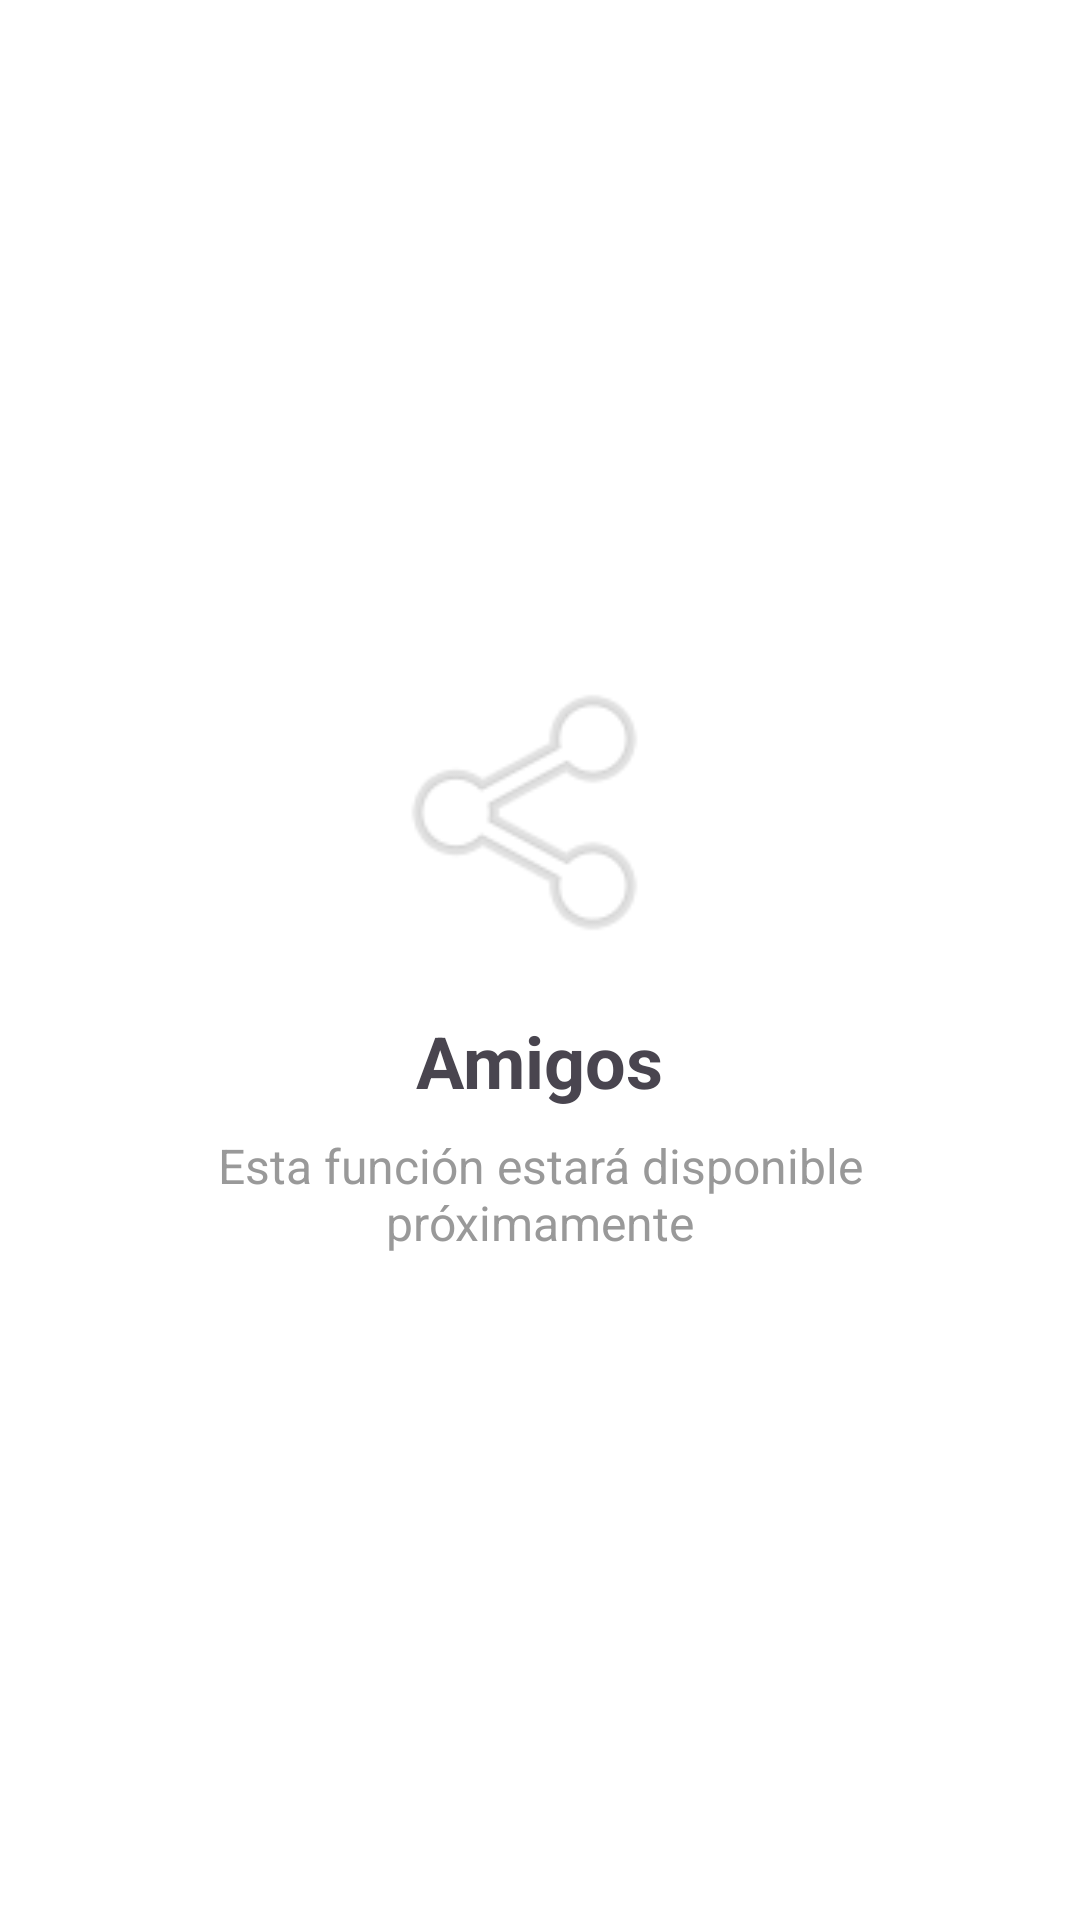

Screen size 1080 x 1920. Icon name, then its box in pixels as (x1, y1, x2, y2):
share: (415, 698, 634, 927)
